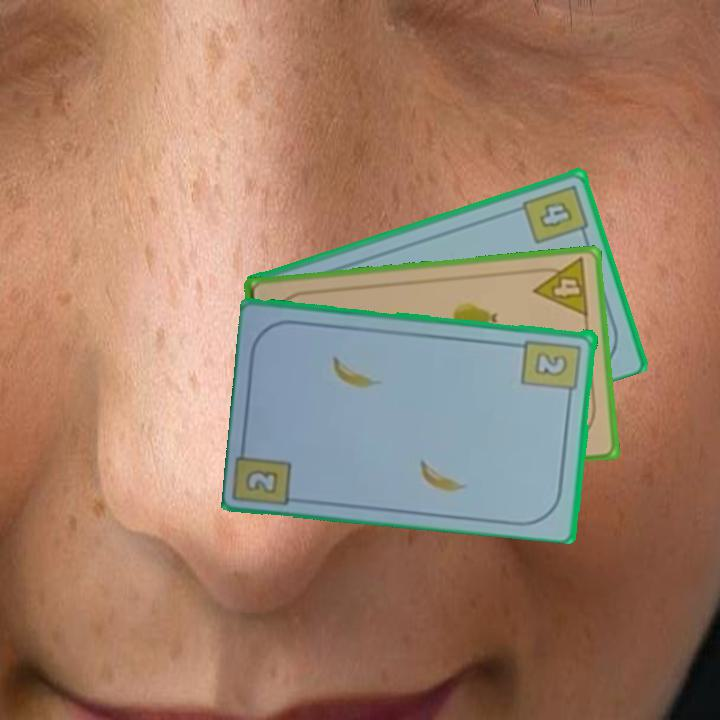2b: (519, 335, 584, 402), (241, 466, 282, 497)
4b: (518, 181, 591, 247)
4p: (528, 255, 592, 320)
